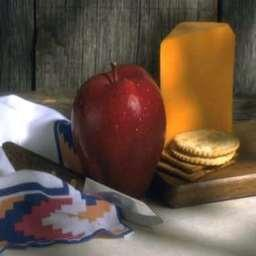apple: (72, 64, 166, 196)
